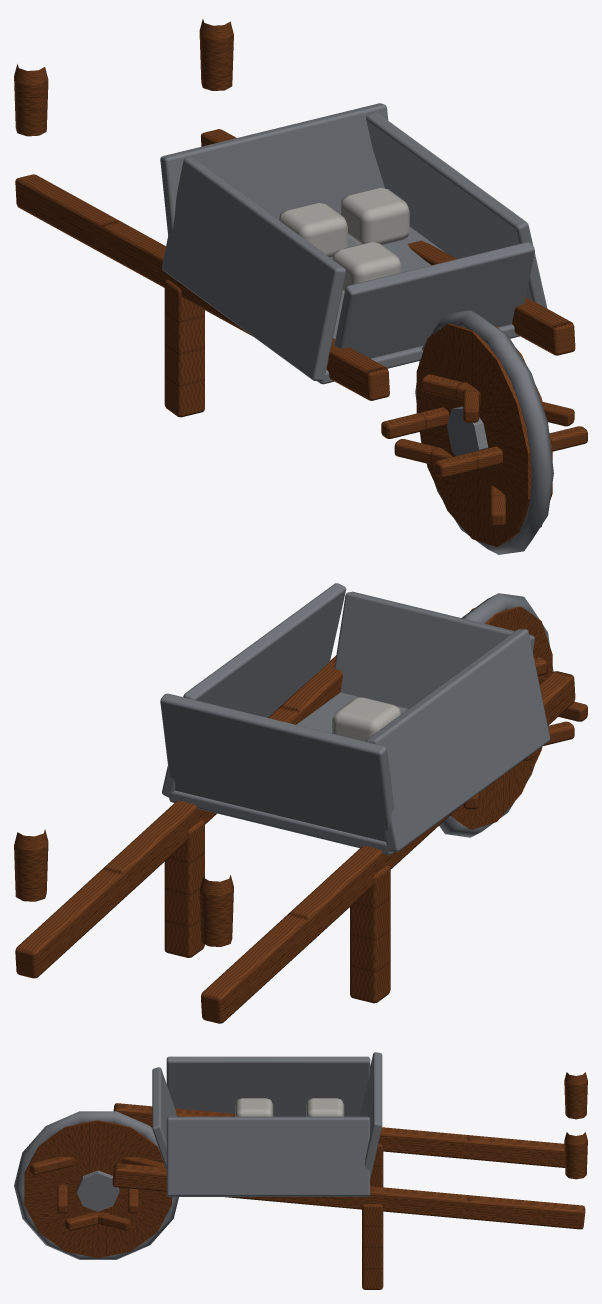
Rendered from yard-wheelbarrow.glb.
3 views of the same model, one above another, from view 1: azimuth 30°, elevation 25°; view 2: azimuth 150°, elevation 25°; view 3: azimuth 270°, elevation 25° (orthographic). The views are drawn at different scales.
Parts seen in each view (by area): view 1: yard-wheelbarrow, wheel-barrow/oak, wheel-barrow/iron; view 2: yard-wheelbarrow, wheel-barrow/oak, wheel-barrow/iron; view 3: yard-wheelbarrow, wheel-barrow/oak, wheel-barrow/iron.
Part boxes in pixels (left/top/right/bottom): yard-wheelbarrow: left=14, top=19, right=575, bottom=417; wheel-barrow/oak: left=381, top=323, right=587, bottom=546; wheel-barrow/iron: left=415, top=310, right=553, bottom=554; yard-wheelbarrow: left=14, top=583, right=575, bottom=1023; wheel-barrow/oak: left=450, top=606, right=587, bottom=829; wheel-barrow/iron: left=439, top=593, right=553, bottom=837; yard-wheelbarrow: left=112, top=1052, right=587, bottom=1289; wheel-barrow/oak: left=24, top=1120, right=171, bottom=1258; wheel-barrow/iron: left=14, top=1111, right=178, bottom=1259.
Size of the model in its own units: 0.7689 by 0.8047 by 2.43.
3 materials, 2 textured.
